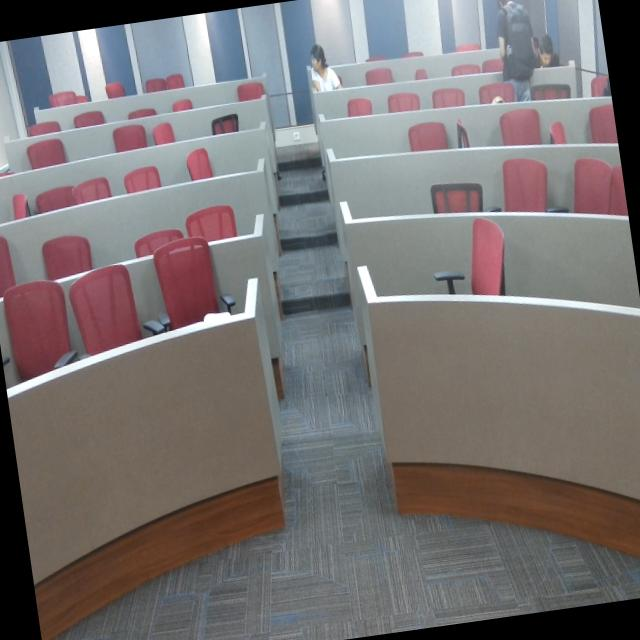cheating: (304, 30, 346, 106)
